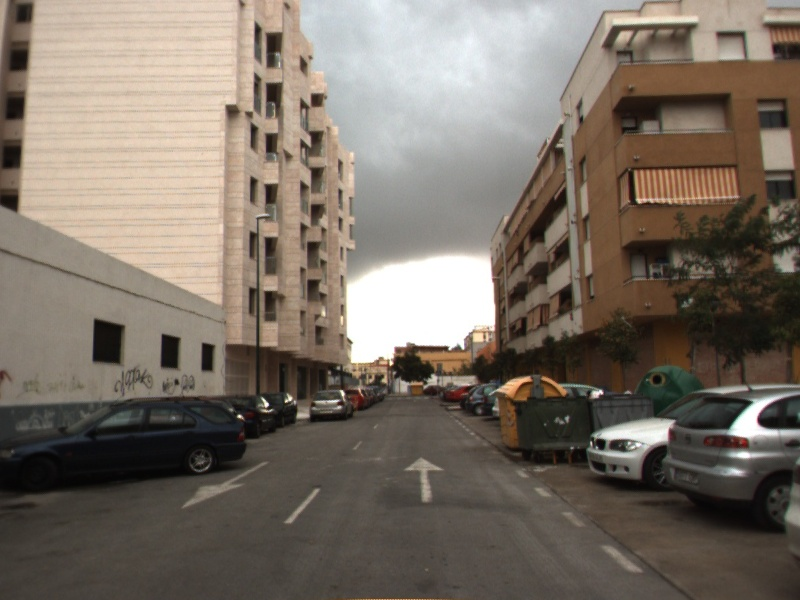STRAIGHT: (401, 454, 447, 504)
